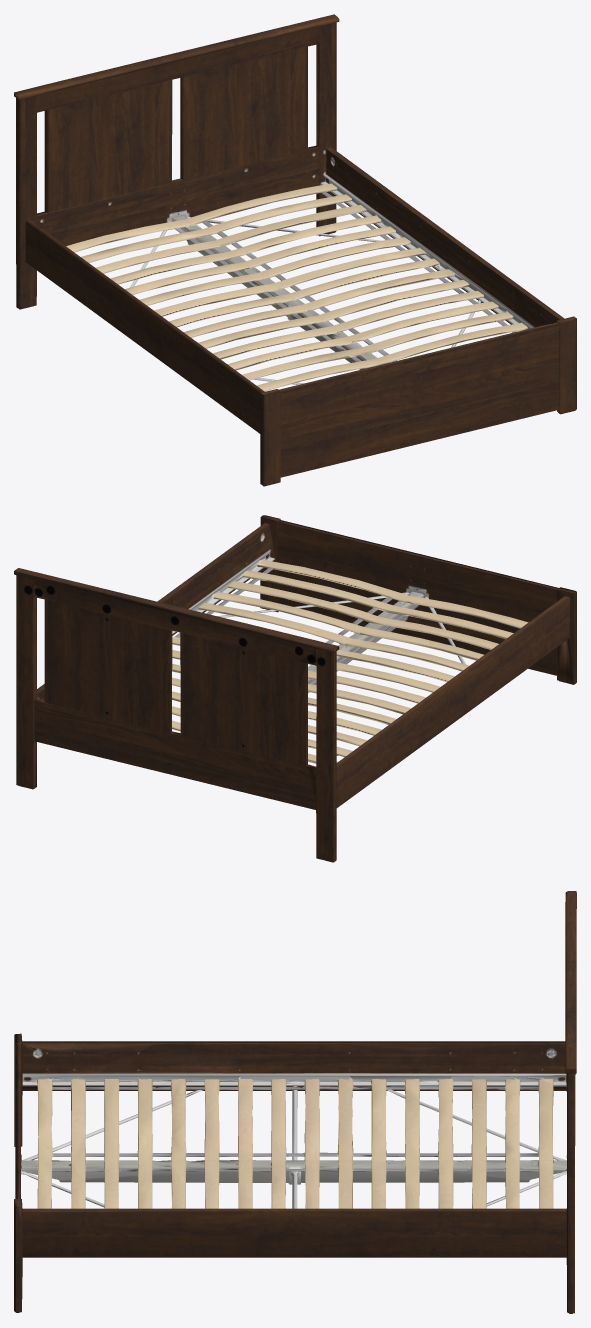
Rendered from songesand_bed_frame_brown_luroey.glb.
3 views of the same model, one above another, from view 1: azimuth 30°, elevation 25°; view 2: azimuth 150°, elevation 25°; view 3: azimuth 270°, elevation 25° (orthographic). The views are drawn at different scales.
Parts seen in each view (by area): view 1: ProcessedMeshNode; view 2: ProcessedMeshNode; view 3: ProcessedMeshNode.
Part boxes in pixels (bbox=[...]): ProcessedMeshNode: bbox=[14, 14, 576, 486]; ProcessedMeshNode: bbox=[14, 515, 576, 862]; ProcessedMeshNode: bbox=[14, 891, 576, 1313].
Size of the model in its own units: 1.47 by 0.9493 by 1.96.
Materials: 1 (1 with a texture image).
